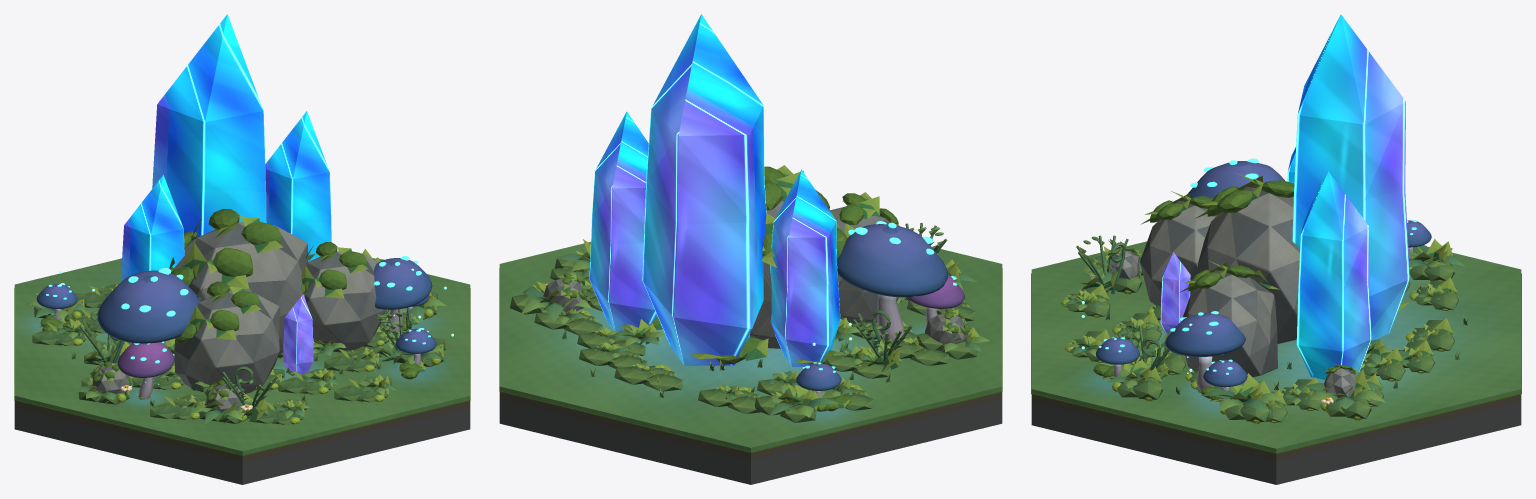
The model's file is hex_mystical_grove.glb.
3 renders of one model, left to right at view 1: azimuth 30°, elevation 25°; view 2: azimuth 150°, elevation 25°; view 3: azimuth 270°, elevation 25°, orthographic. The views are drawn at different scales.
Visible parts, largest first — view 1: Standard hex meadow top.001, Faceted magical crystal.001, Standard hex stone foundation.001, Angular mossy forest boulder.002, Faceted magical crystal.003, Angular mossy forest boulder.001, Broad faceted mushroom cap.001, Angular mossy forest boulder.003, Faceted magical crystal.002, Standard hex earth layer.001, Broad faceted mushroom cap.002, Faceted magical crystal.005 (+7 smaller); view 2: Faceted magical crystal.001, Standard hex meadow top.001, Standard hex stone foundation.001, Faceted magical crystal.002, Faceted magical crystal.003, Broad faceted mushroom cap.001, Standard hex earth layer.001, Angular mossy forest boulder.002, Angular mossy forest boulder.001, Broad faceted mushroom cap.004, Broad faceted mushroom cap.006, Curving luminous mushroom stem.001 (+3 smaller); view 3: Standard hex meadow top.001, Faceted magical crystal.001, Faceted magical crystal.003, Standard hex stone foundation.001, Angular mossy forest boulder.001, Angular mossy forest boulder.003, Standard hex earth layer.001, Angular mossy forest boulder.002, Broad faceted mushroom cap.002, Broad faceted mushroom cap.001, Faceted magical crystal.005, Broad faceted mushroom cap.008 (+4 smaller).
Boxes of the visible parts, bbox=[...] form: Standard hex meadow top.001: bbox=[14, 258, 470, 454]; Faceted magical crystal.001: bbox=[152, 14, 266, 237]; Standard hex stone foundation.001: bbox=[14, 408, 470, 484]; Angular mossy forest boulder.002: bbox=[174, 291, 279, 393]; Faceted magical crystal.003: bbox=[265, 111, 331, 261]; Angular mossy forest boulder.001: bbox=[174, 222, 307, 354]; Broad faceted mushroom cap.001: bbox=[97, 270, 200, 343]; Angular mossy forest boulder.003: bbox=[302, 251, 385, 352]; Faceted magical crystal.002: bbox=[121, 175, 184, 281]; Standard hex earth layer.001: bbox=[14, 400, 470, 463]; Broad faceted mushroom cap.002: bbox=[374, 258, 432, 309]; Faceted magical crystal.005: bbox=[283, 294, 313, 376]; Faceted magical crystal.001: bbox=[642, 14, 766, 365]; Standard hex meadow top.001: bbox=[499, 241, 1002, 451]; Standard hex stone foundation.001: bbox=[499, 400, 1002, 484]; Faceted magical crystal.002: bbox=[770, 169, 840, 366]; Faceted magical crystal.003: bbox=[589, 111, 657, 331]; Broad faceted mushroom cap.001: bbox=[837, 224, 948, 297]; Standard hex earth layer.001: bbox=[499, 392, 1002, 460]; Angular mossy forest boulder.002: bbox=[830, 206, 898, 323]; Angular mossy forest boulder.001: bbox=[750, 200, 844, 348]; Broad faceted mushroom cap.004: bbox=[906, 274, 964, 308]; Broad faceted mushroom cap.006: bbox=[796, 363, 841, 390]; Curving luminous mushroom stem.001: bbox=[877, 294, 904, 341]; Standard hex meadow top.001: bbox=[1031, 241, 1521, 452]; Faceted magical crystal.001: bbox=[1292, 14, 1409, 340]; Faceted magical crystal.003: bbox=[1296, 171, 1371, 379]; Standard hex stone foundation.001: bbox=[1031, 402, 1521, 484]; Angular mossy forest boulder.001: bbox=[1196, 186, 1299, 344]; Angular mossy forest boulder.003: bbox=[1183, 270, 1277, 377]; Standard hex earth layer.001: bbox=[1031, 394, 1521, 461]; Angular mossy forest boulder.002: bbox=[1140, 201, 1217, 306]; Broad faceted mushroom cap.002: bbox=[1165, 312, 1245, 356]; Broad faceted mushroom cap.001: bbox=[1188, 161, 1284, 198]; Faceted magical crystal.005: bbox=[1160, 252, 1190, 335]; Broad faceted mushroom cap.008: bbox=[1203, 360, 1247, 387].
Bounding box in the file's own units: 5.11 × 3.57 × 4.42.
40 materials, 30 textured.
